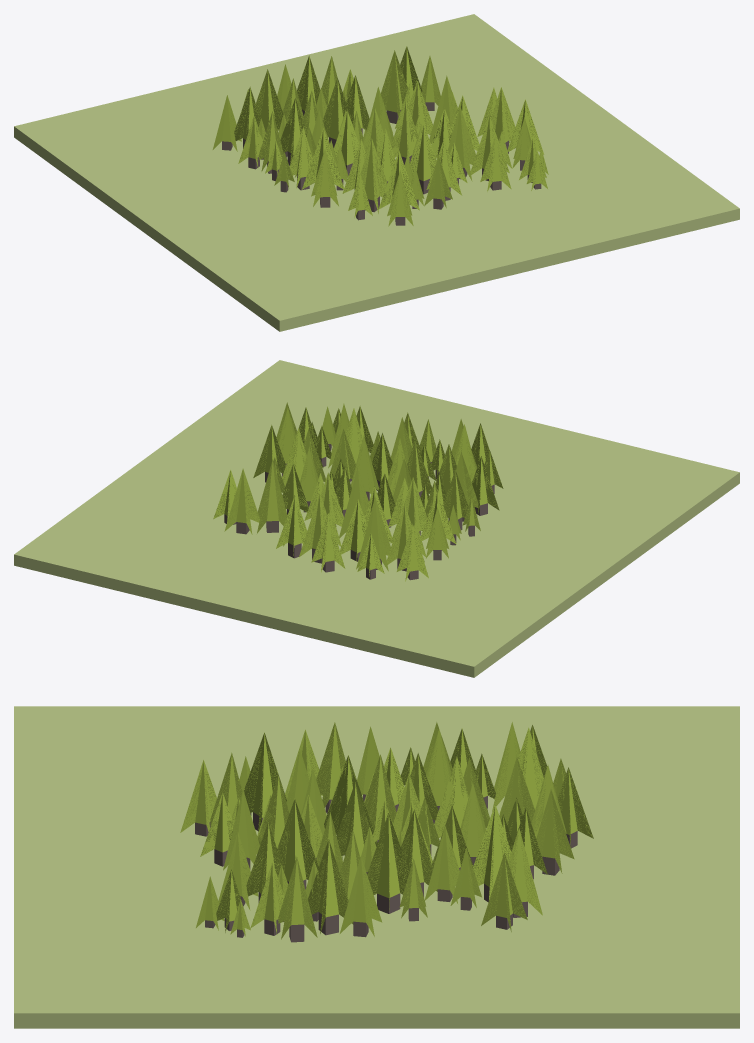
Rendered from Forest I.fbx.
3 renders of one model, top to bottom at view 1: azimuth 30°, elevation 25°; view 2: azimuth 150°, elevation 25°; view 3: azimuth 270°, elevation 25°, orthographic. The views are drawn at different scales.
Visible parts, largest first — view 1: Forest I; view 2: Forest I; view 3: Forest I.
Boxes of the visible parts, left/top/right/bottom form: Forest I: left=14, top=14, right=739, bottom=331; Forest I: left=14, top=360, right=739, bottom=677; Forest I: left=14, top=706, right=739, bottom=1028.
Size of the model in its own units: 1600 by 273 by 1600.
